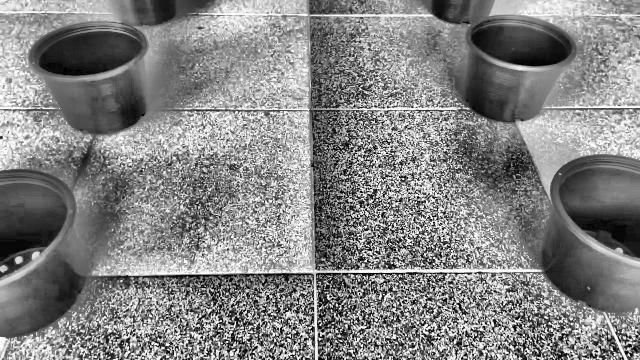pot: (544, 156, 640, 314), (0, 170, 84, 338), (28, 21, 150, 136), (464, 15, 577, 122)
